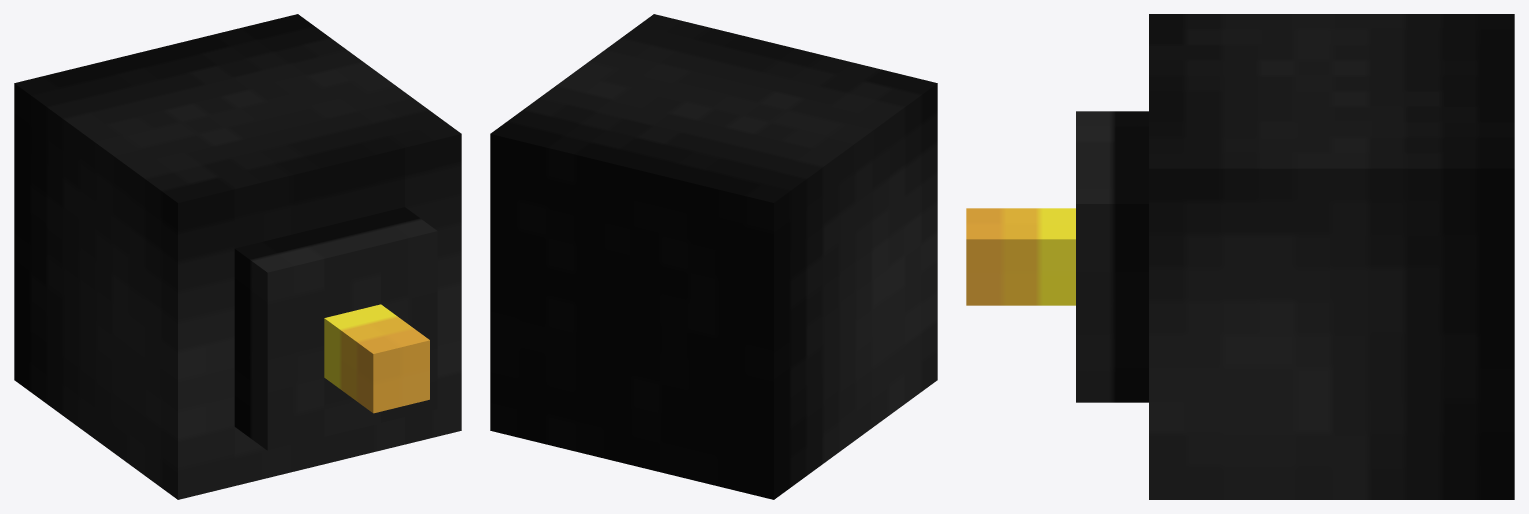
Rendered from Weapon062.fbx.
3 renders of one model, left to right at view 1: azimuth 30°, elevation 25°; view 2: azimuth 150°, elevation 25°; view 3: azimuth 270°, elevation 25°, orthographic. The views are drawn at different scales.
Parts seen in each view (by area): view 1: Weapon062; view 2: Weapon062; view 3: Weapon062.
Boxes of the visible parts, x1,y1,x2,y2 form: Weapon062: (14,14,461,499); Weapon062: (490,14,937,499); Weapon062: (966,14,1514,499).
Size of the model in its own units: 10 by 10 by 15.
